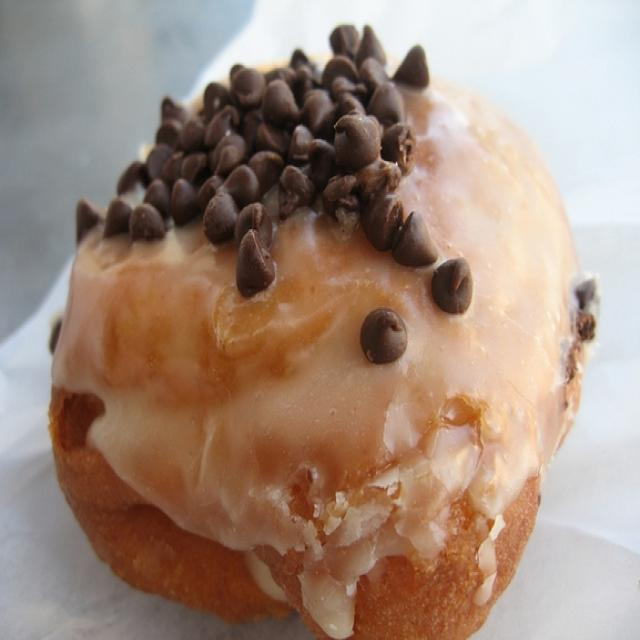炸货点心: (35, 37, 606, 628)
